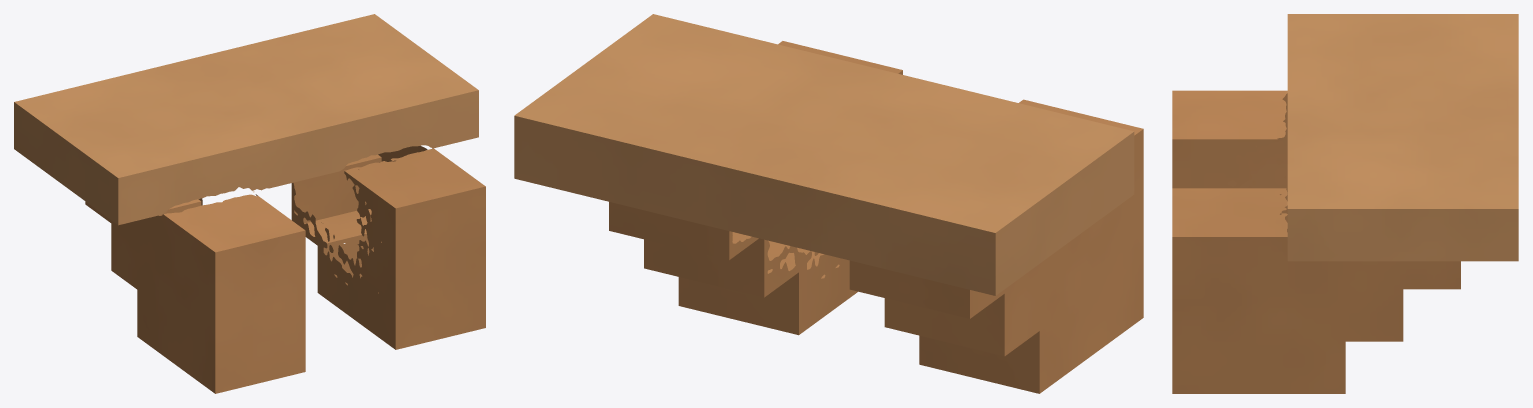
The picture shows the model from 3 angles, left to right: view 1: azimuth 30°, elevation 25°; view 2: azimuth 150°, elevation 25°; view 3: azimuth 270°, elevation 25°; orthographic projection. The views are drawn at different scales.
Parts seen in each view (by area): view 1: ss23-sandstone-corbel-shelf; view 2: ss23-sandstone-corbel-shelf; view 3: ss23-sandstone-corbel-shelf.
Part boxes in pixels (left/top/right/bottom): ss23-sandstone-corbel-shelf: left=14, top=14, right=485, bottom=393; ss23-sandstone-corbel-shelf: left=514, top=14, right=1143, bottom=393; ss23-sandstone-corbel-shelf: left=1172, top=14, right=1518, bottom=393.
Bounding box in the file's own units: 100 × 50 × 75.
